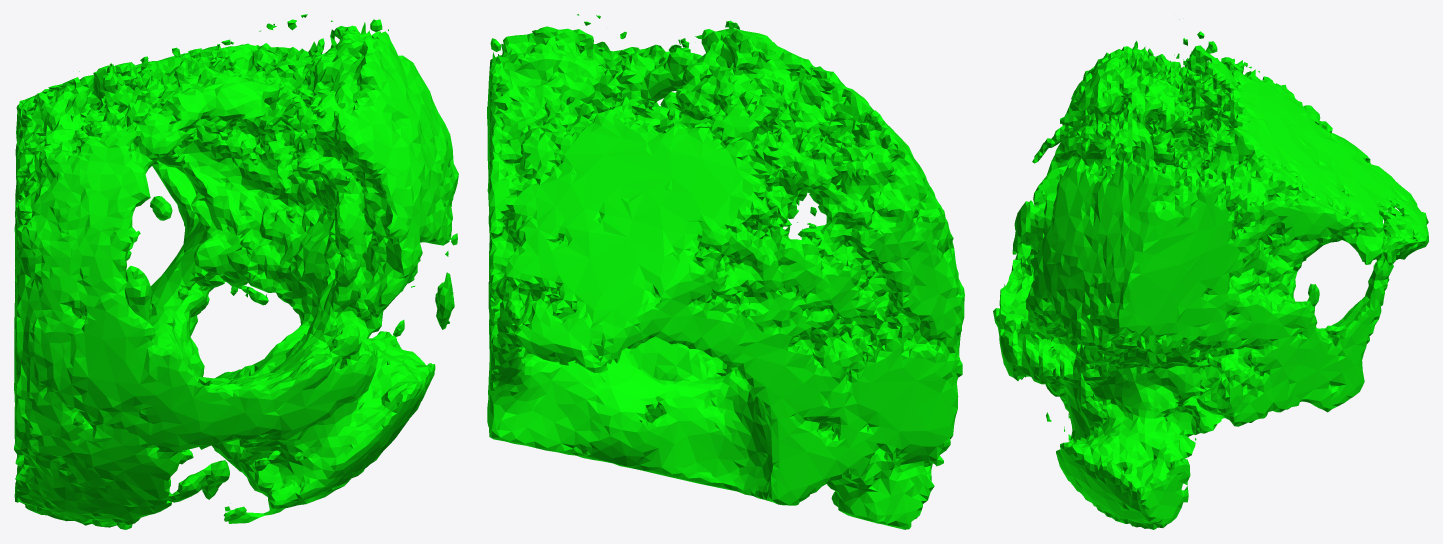
File: B939XXXX-1_base_3.obj
3 renders of one model, left to right at view 1: azimuth 30°, elevation 25°; view 2: azimuth 150°, elevation 25°; view 3: azimuth 270°, elevation 25°, orthographic. The views are drawn at different scales.
Parts seen in each view (by area): view 1: 3_base; view 2: 3_base; view 3: 3_base.
Part boxes in pixels (x1,y1,x2,y2): 3_base: (14, 14, 458, 529); 3_base: (487, 14, 964, 529); 3_base: (993, 19, 1428, 529).
Bounding box in the file's own units: 218 × 214 × 205.
